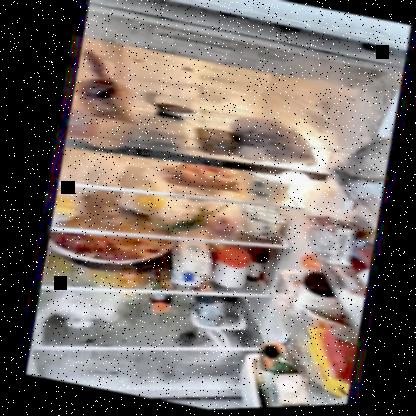broccoli: (185, 294, 244, 338)
butter: (192, 125, 239, 156)
carrot: (161, 159, 242, 199)
cheese: (133, 114, 189, 150)
green_chillies: (152, 205, 205, 241)
lemon: (128, 187, 167, 219), (51, 190, 85, 223)
milk: (166, 239, 210, 292), (262, 371, 311, 408)
tomato: (203, 213, 235, 240)
yoghurt: (232, 203, 288, 246), (243, 171, 292, 208), (153, 100, 195, 125)
